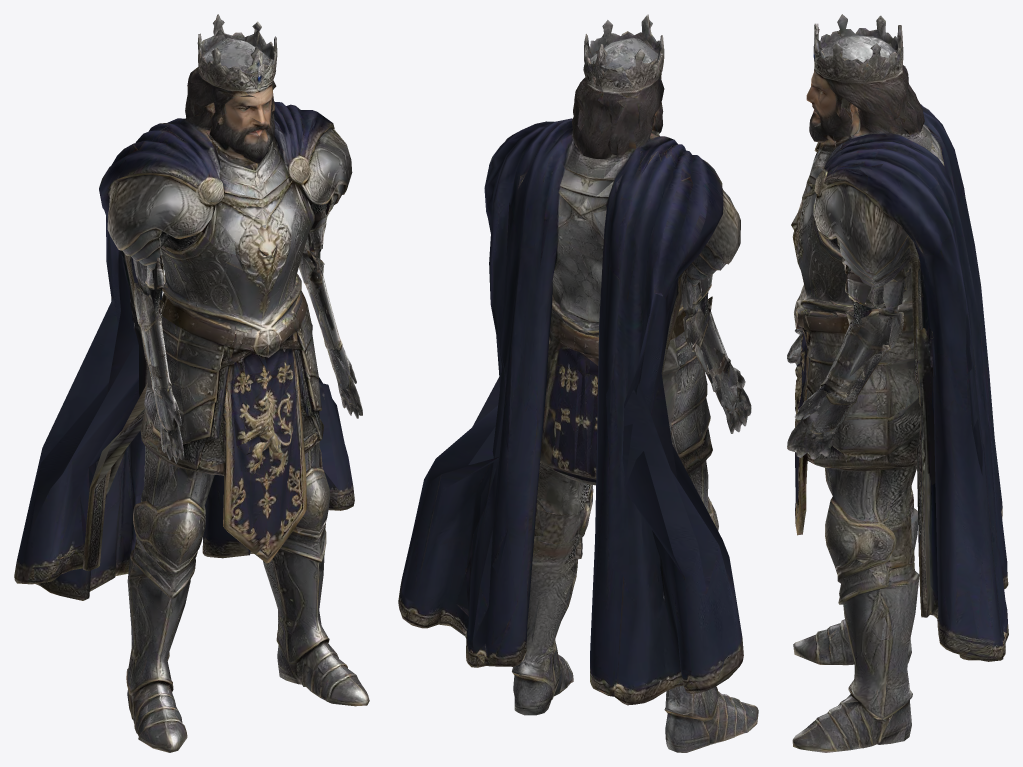
File: human-b-k.glb
3 renders of one model, left to right at view 1: azimuth 30°, elevation 25°; view 2: azimuth 150°, elevation 25°; view 3: azimuth 270°, elevation 25°, orthographic.
Visible parts, largest first — view 1: Mesh_0; view 2: Mesh_0; view 3: Mesh_0.
Boxes of the visible parts, box(x1,y1,x2,y2) form: Mesh_0: box(14, 14, 369, 752); Mesh_0: box(398, 14, 758, 752); Mesh_0: box(787, 14, 1008, 752).
Bounding box in the file's own units: 0.9176 × 1.8 × 0.5356.
1 material, 1 textured.
